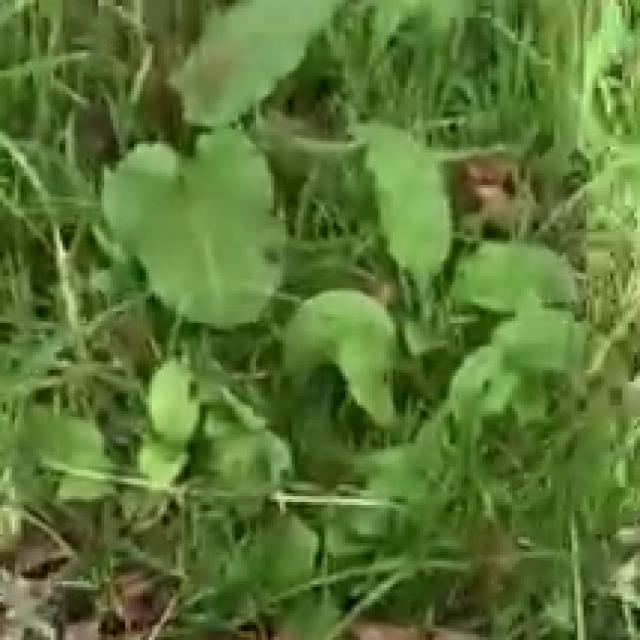organic waste: (149, 129, 601, 581), (15, 0, 423, 396)
